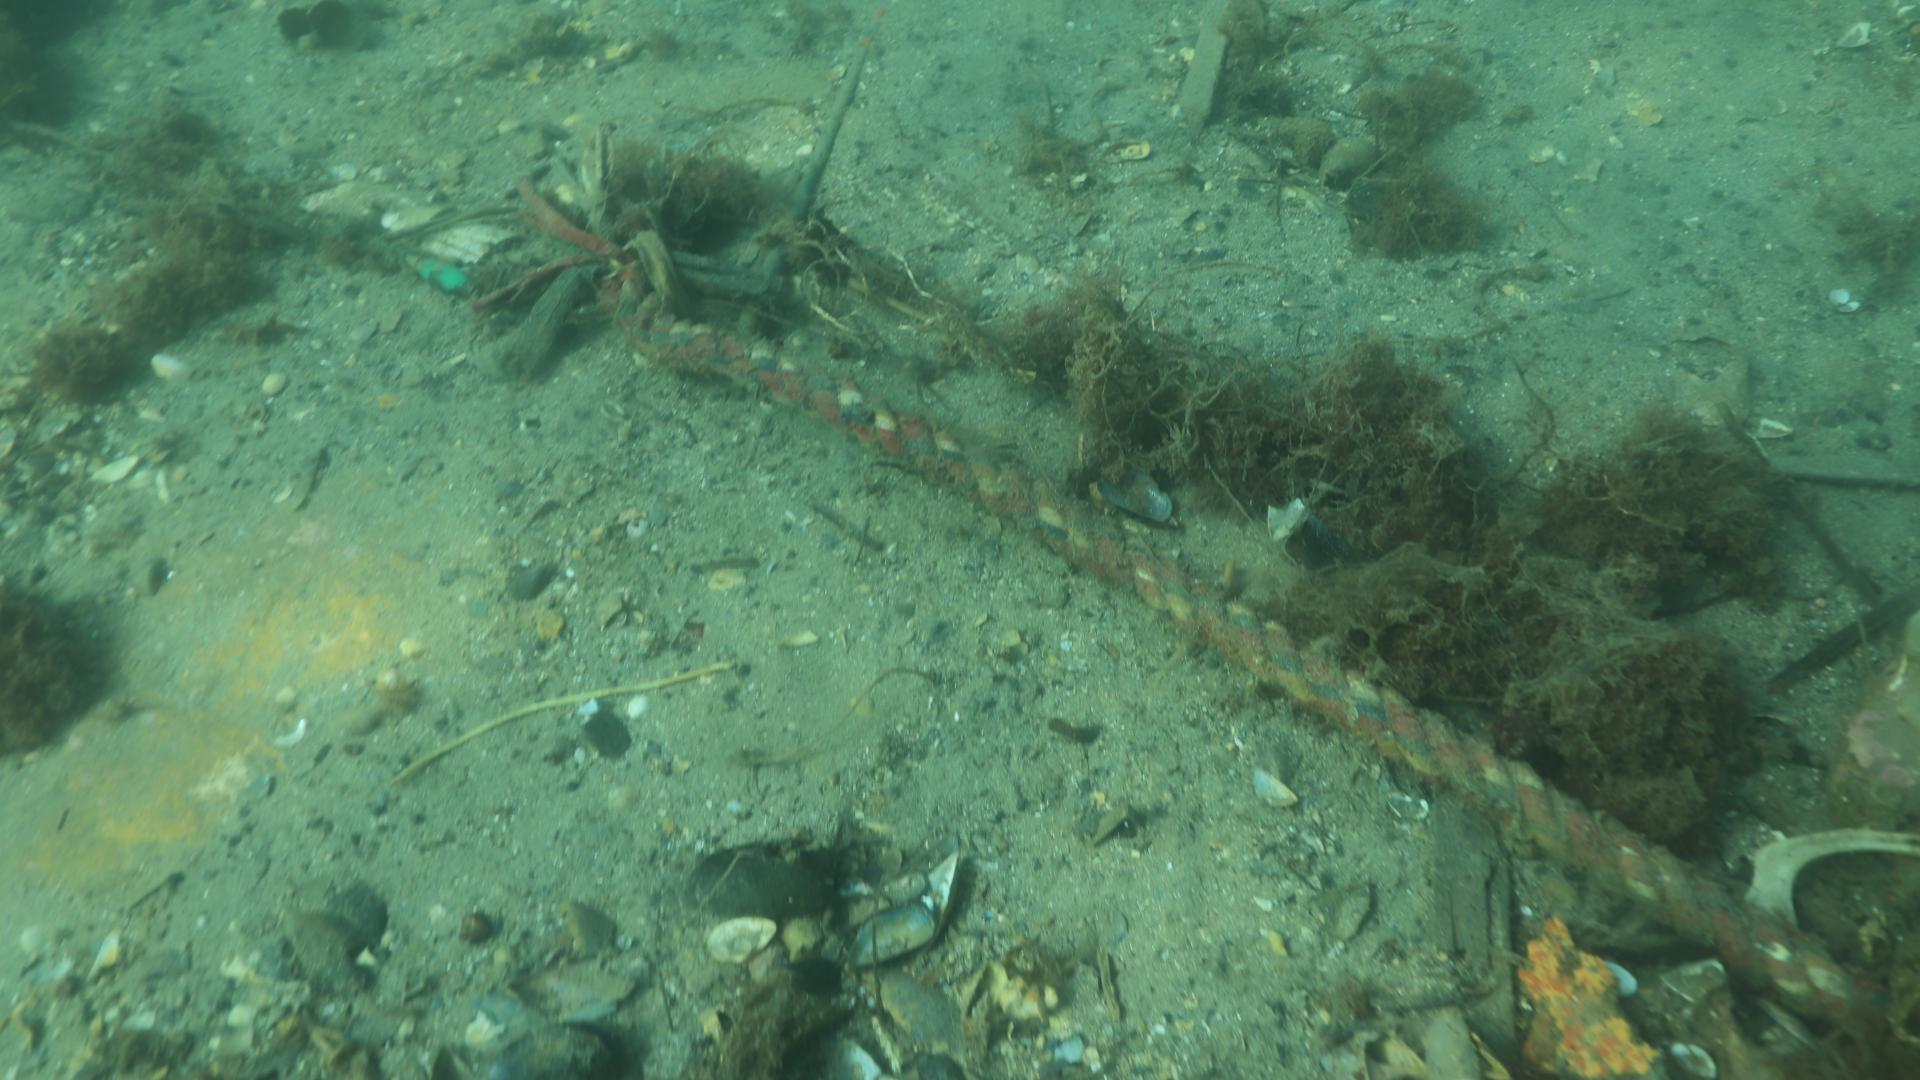rope: (669, 318, 1920, 1080)
